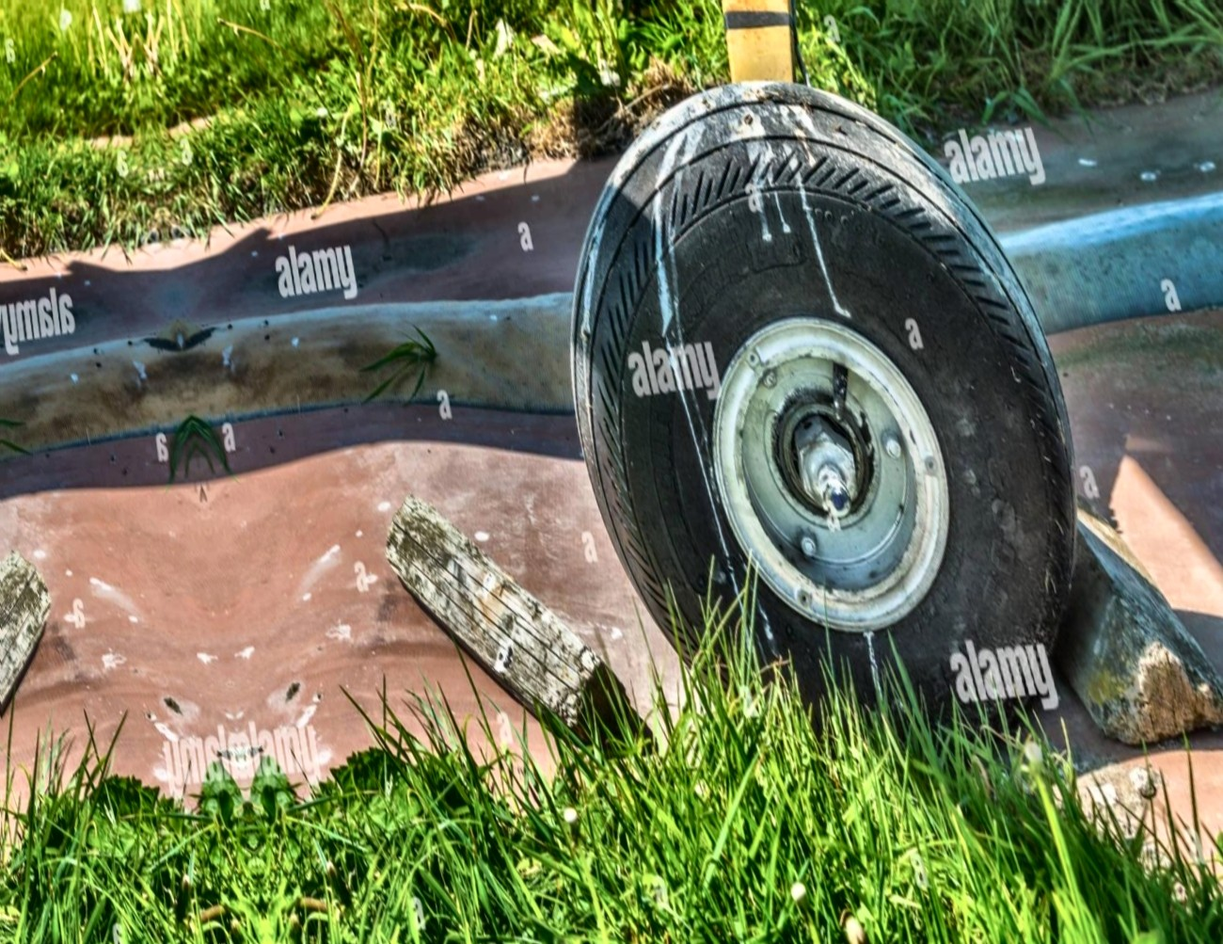chock: (368, 447, 645, 784), (1005, 464, 1223, 764), (0, 524, 76, 841)
wheel: (508, 37, 1166, 778)
